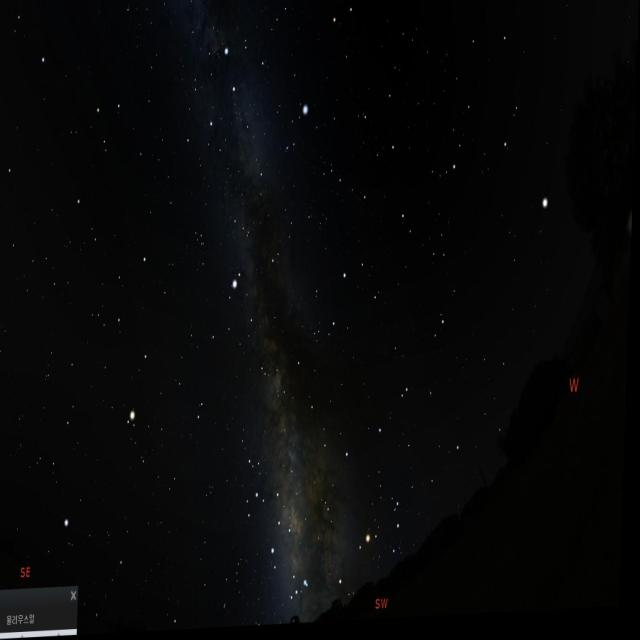aquila: (217, 242, 290, 402)
bootes: (449, 23, 569, 248)
cygnus: (208, 43, 274, 215)
lyra: (276, 108, 315, 168)
sagittarius: (230, 450, 304, 568)
scorpius: (288, 478, 405, 614)
